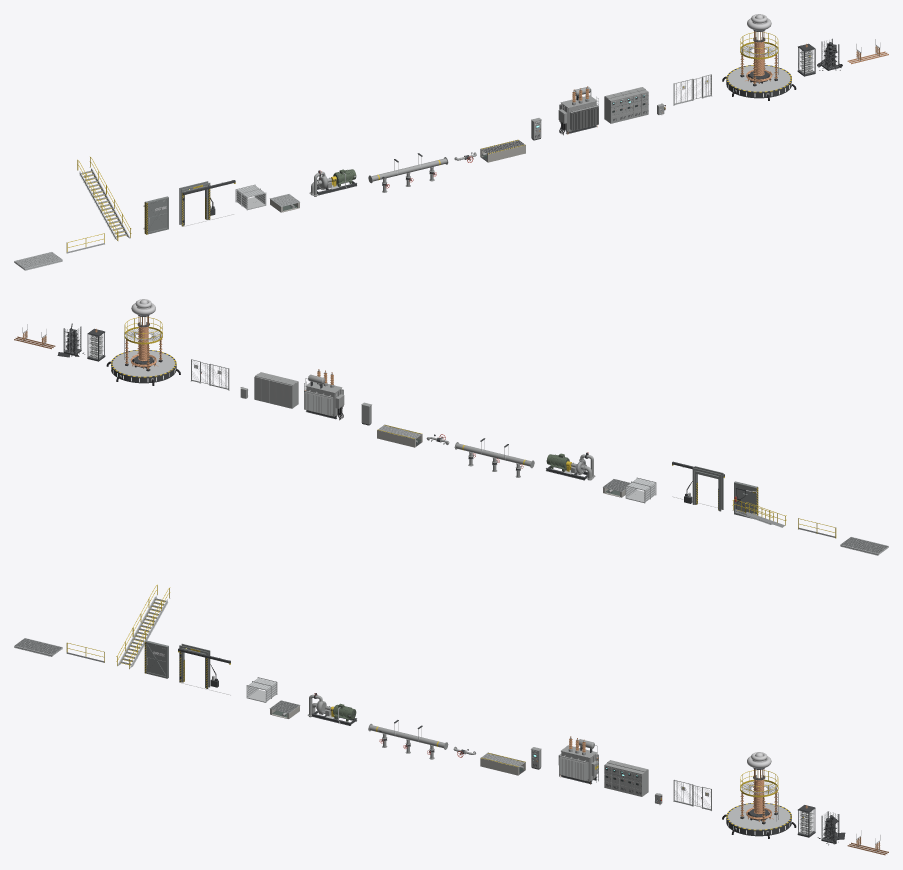
Rendered from m4_kit.glb.
3 views of the same model, one above another, from view 1: azimuth 30°, elevation 25°; view 2: azimuth 150°, elevation 25°; view 3: azimuth 330°, elevation 25° (orthographic).
Visible parts, largest first — view 1: relay_core_array_body, transformer_unit_body, switchgear_lineup_4_body, stair_flight_body, cooling_pump_body, blast_door_body, blast_door_frame_body, pipe_manifold_8_body, water_channel_4_body, crawl_duct_2_body, hv_cage_4_body, capacitor_stack_body (+2 smaller); view 2: relay_core_array_body, transformer_unit_body, switchgear_lineup_4_body, cooling_pump_body, blast_door_frame_body, pipe_manifold_8_body, blast_door_body, water_channel_4_body, crawl_duct_2_body, capacitor_stack_destroyed_body, capacitor_stack_body, catwalk_4_body (+1 smaller); view 3: relay_core_array_body, transformer_unit_body, switchgear_lineup_4_body, stair_flight_body, cooling_pump_body, blast_door_frame_body, blast_door_body, pipe_manifold_8_body, water_channel_4_body, crawl_duct_2_body, capacitor_stack_destroyed_body.
Boxes of the visible parts, box(x1,y1,x2,y2) form: relay_core_array_body: box(722, 14, 796, 100); transformer_unit_body: box(558, 86, 598, 135); switchgear_lineup_4_body: box(604, 87, 648, 123); stair_flight_body: box(77, 157, 131, 241); cooling_pump_body: box(309, 169, 356, 196); blast_door_body: box(143, 196, 168, 234); blast_door_frame_body: box(179, 180, 235, 226); pipe_manifold_8_body: box(368, 153, 448, 192); water_channel_4_body: box(480, 139, 525, 162); crawl_duct_2_body: box(235, 184, 266, 210); hv_cage_4_body: box(673, 74, 712, 105); capacitor_stack_body: box(797, 43, 815, 76); relay_core_array_body: box(106, 299, 180, 385); transformer_unit_body: box(304, 369, 344, 420); switchgear_lineup_4_body: box(254, 372, 298, 408); cooling_pump_body: box(546, 452, 595, 480); blast_door_frame_body: box(672, 461, 724, 511); pipe_manifold_8_body: box(454, 438, 534, 477); blast_door_body: box(734, 481, 758, 518); water_channel_4_body: box(377, 424, 422, 447); crawl_duct_2_body: box(625, 477, 656, 503); capacitor_stack_destroyed_body: box(57, 323, 84, 357); capacitor_stack_body: box(87, 328, 105, 361); catwalk_4_body: box(840, 537, 888, 555); relay_core_array_body: box(722, 752, 796, 838); transformer_unit_body: box(558, 736, 598, 784); switchgear_lineup_4_body: box(604, 760, 648, 796); stair_flight_body: box(116, 584, 170, 669); cooling_pump_body: box(307, 693, 356, 725); blast_door_frame_body: box(178, 643, 230, 695); blast_door_body: box(144, 640, 168, 678); pipe_manifold_8_body: box(368, 720, 448, 759); water_channel_4_body: box(480, 752, 525, 775); crawl_duct_2_body: box(246, 677, 277, 702); capacitor_stack_destroyed_body: box(817, 811, 845, 845).
Bounding box in the file's own units: 91.5 × 8.6 × 10.74.
